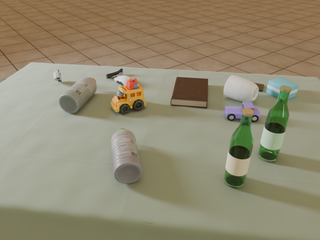book: (171, 77, 208, 108)
bottle: (258, 86, 291, 161), (224, 108, 254, 188), (111, 128, 142, 184), (59, 77, 97, 113)
box: (266, 77, 299, 99)
cup: (224, 75, 259, 102)
mouse: (114, 75, 130, 86)
toy_car: (111, 78, 146, 113), (225, 101, 261, 122), (54, 70, 62, 82)
